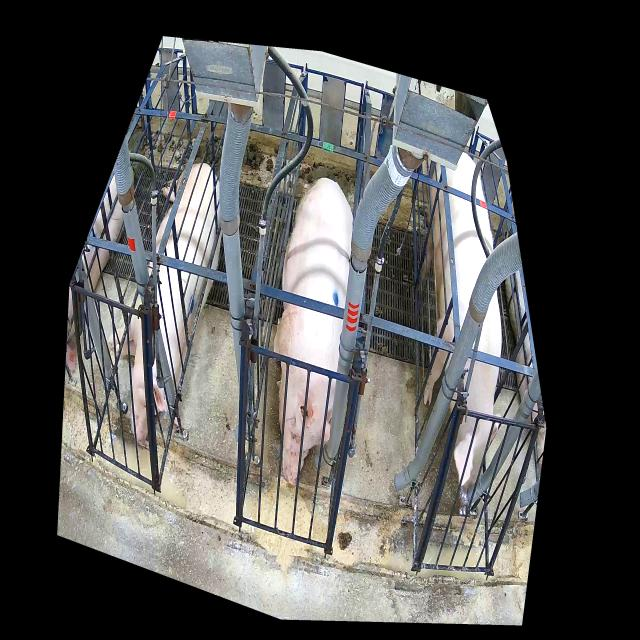pig: (107, 162, 222, 447), (418, 152, 502, 494), (273, 177, 354, 484)
